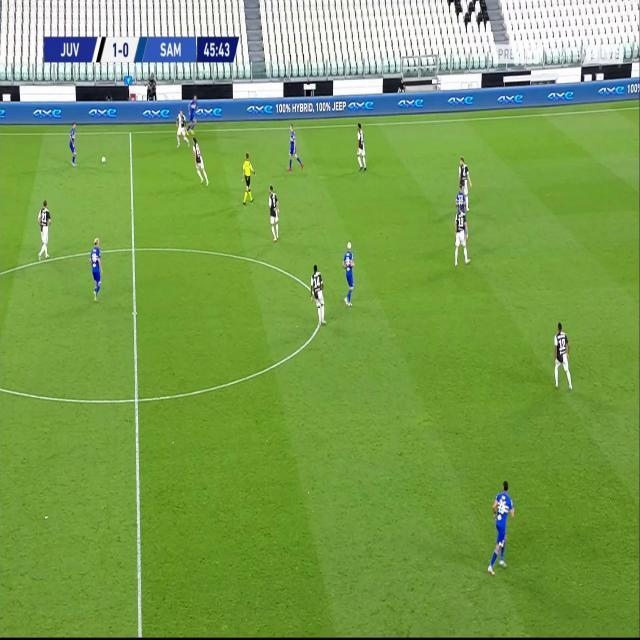ball: (101, 154, 107, 164)
player: (485, 476, 520, 577), (552, 320, 575, 391), (88, 237, 106, 302), (453, 206, 471, 270), (341, 241, 358, 308), (310, 263, 327, 326), (36, 199, 52, 261), (191, 138, 210, 190), (286, 123, 304, 174), (266, 184, 281, 242), (355, 122, 368, 174), (459, 156, 471, 212), (186, 95, 201, 136), (174, 110, 189, 149), (68, 122, 79, 167), (456, 185, 467, 215)
referee: (241, 151, 258, 205)
